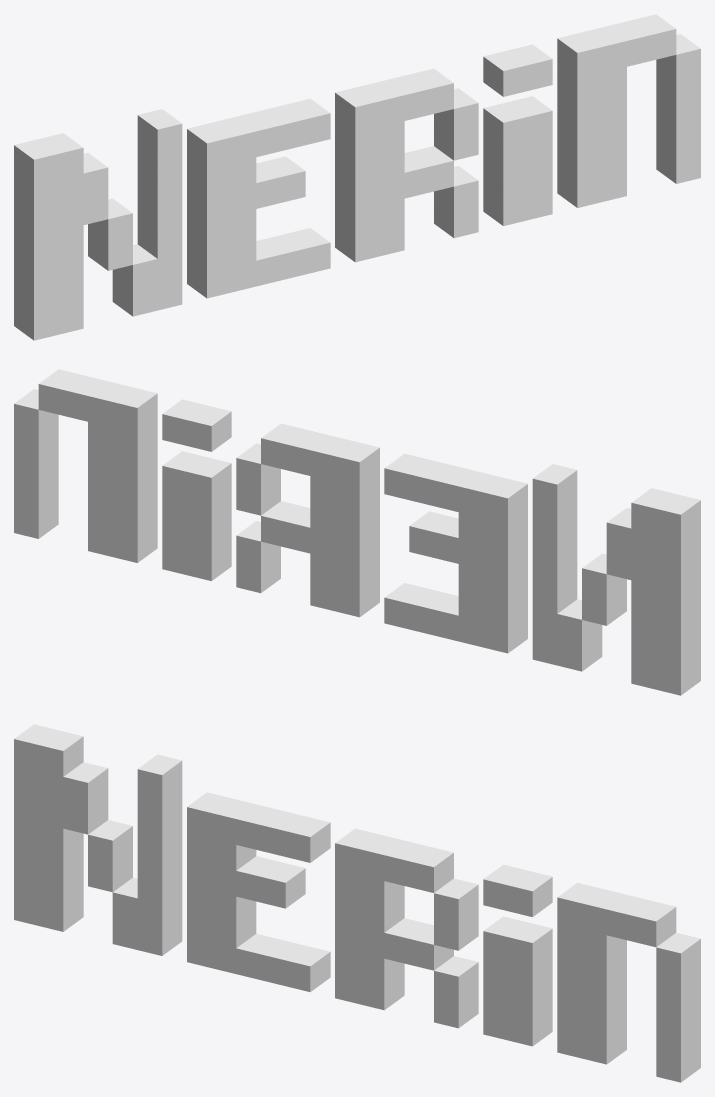
File: Nerin_김연후.fbx
3 renders of one model, top to bottom at view 1: azimuth 30°, elevation 25°; view 2: azimuth 150°, elevation 25°; view 3: azimuth 330°, elevation 25°, orthographic.
Visible parts, largest first — view 1: node_id29; view 2: node_id29; view 3: node_id29.
Part boxes in pixels (x1=…): node_id29: x1=14, y1=14, x2=700, y2=340; node_id29: x1=14, y1=369, x2=700, y2=695; node_id29: x1=14, y1=724, x2=700, y2=1082.
Bounding box in the file's own units: 0.359 × 0.0931 × 0.0188.
Materials: 1 (1 with a texture image).
